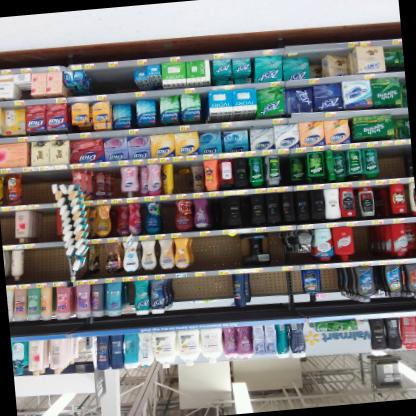empty_space: (166, 268, 233, 313), (248, 265, 305, 309), (21, 241, 70, 285), (192, 229, 242, 272), (87, 60, 136, 96), (378, 139, 407, 180), (23, 166, 52, 204), (29, 204, 55, 244), (319, 263, 343, 302), (351, 220, 371, 263), (0, 206, 15, 244)
